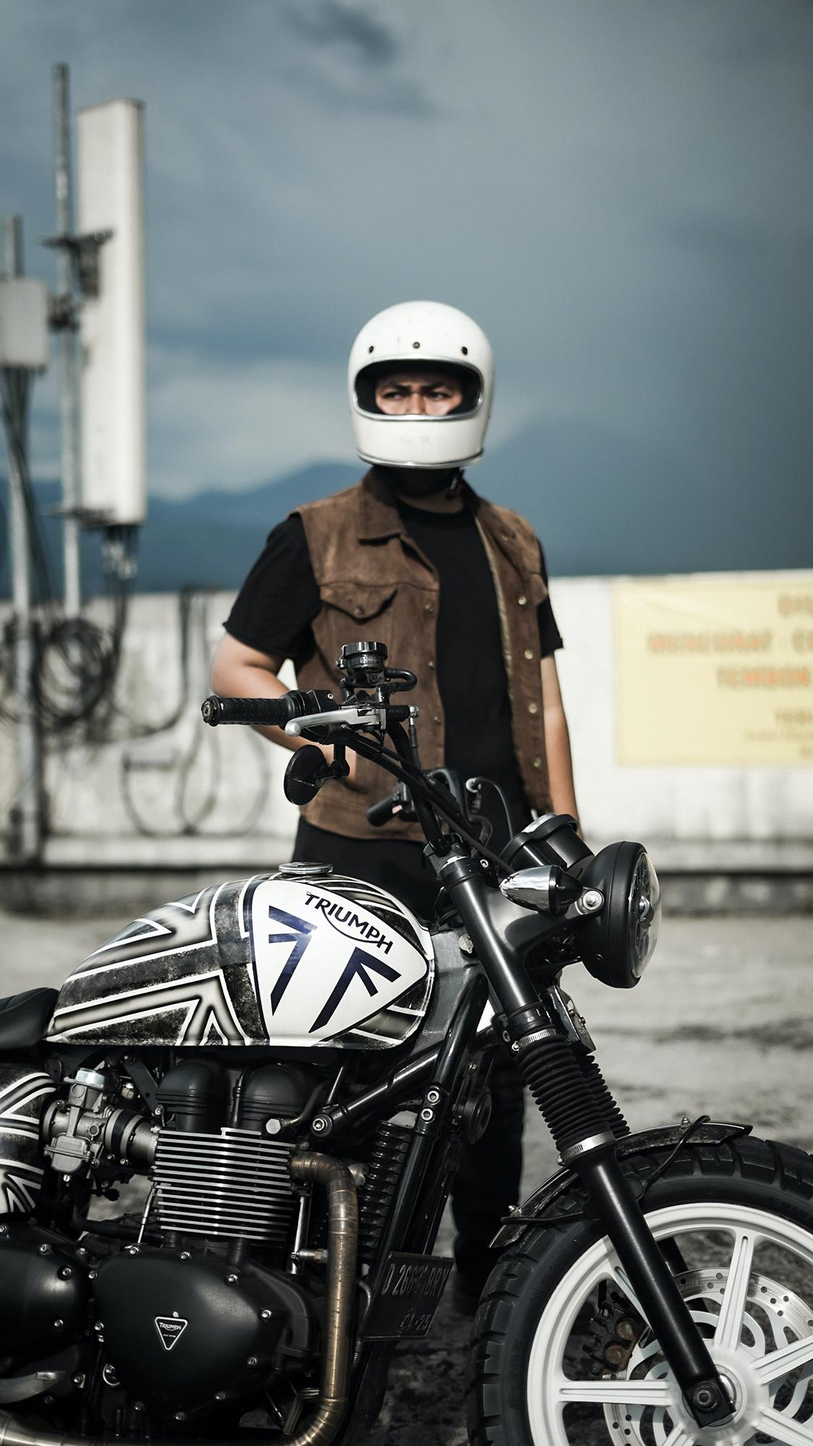helmet: (346, 299, 496, 471)
